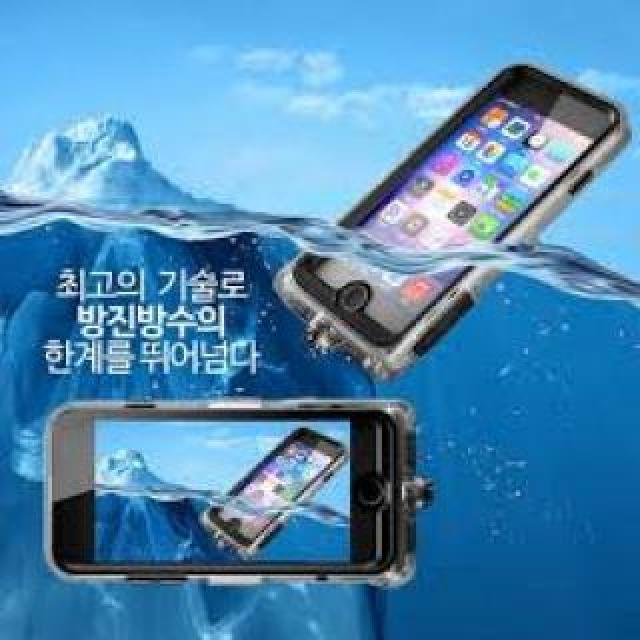smart phone: (40, 393, 427, 622), (267, 24, 498, 374)
